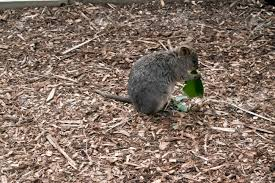quokka: (90, 43, 213, 125)
